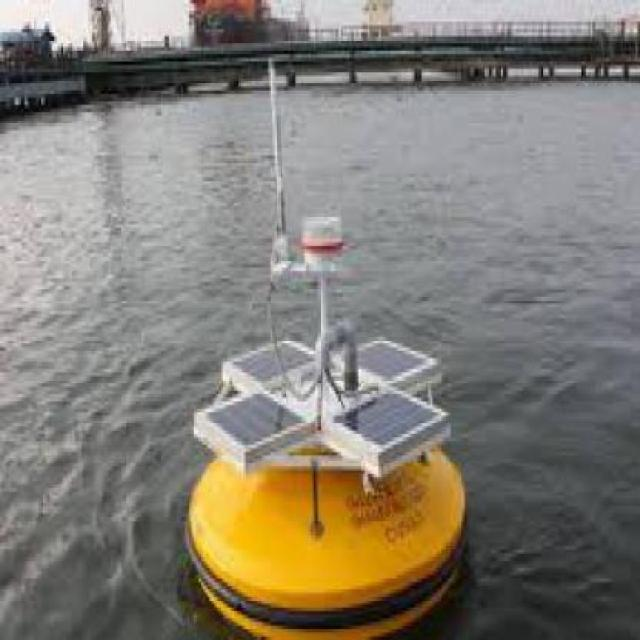buoy: (176, 186, 481, 638)
